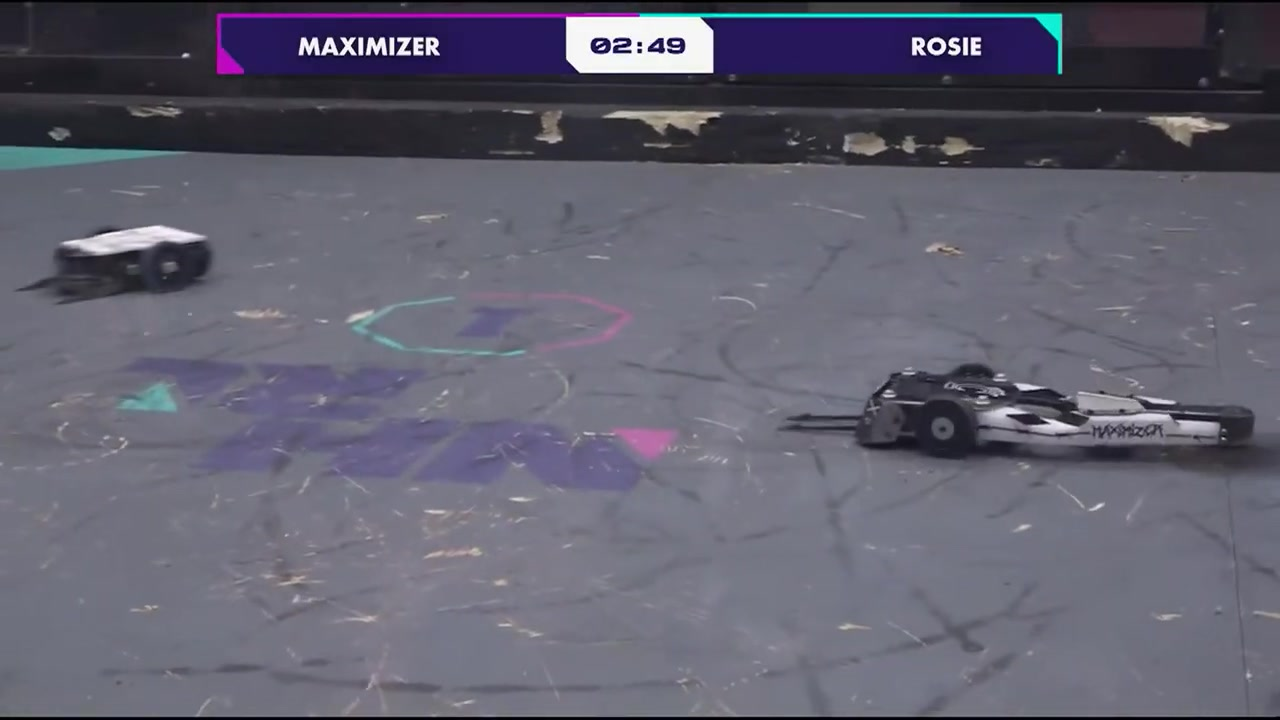combatbot: (775, 363, 1255, 458), (17, 221, 213, 307)
